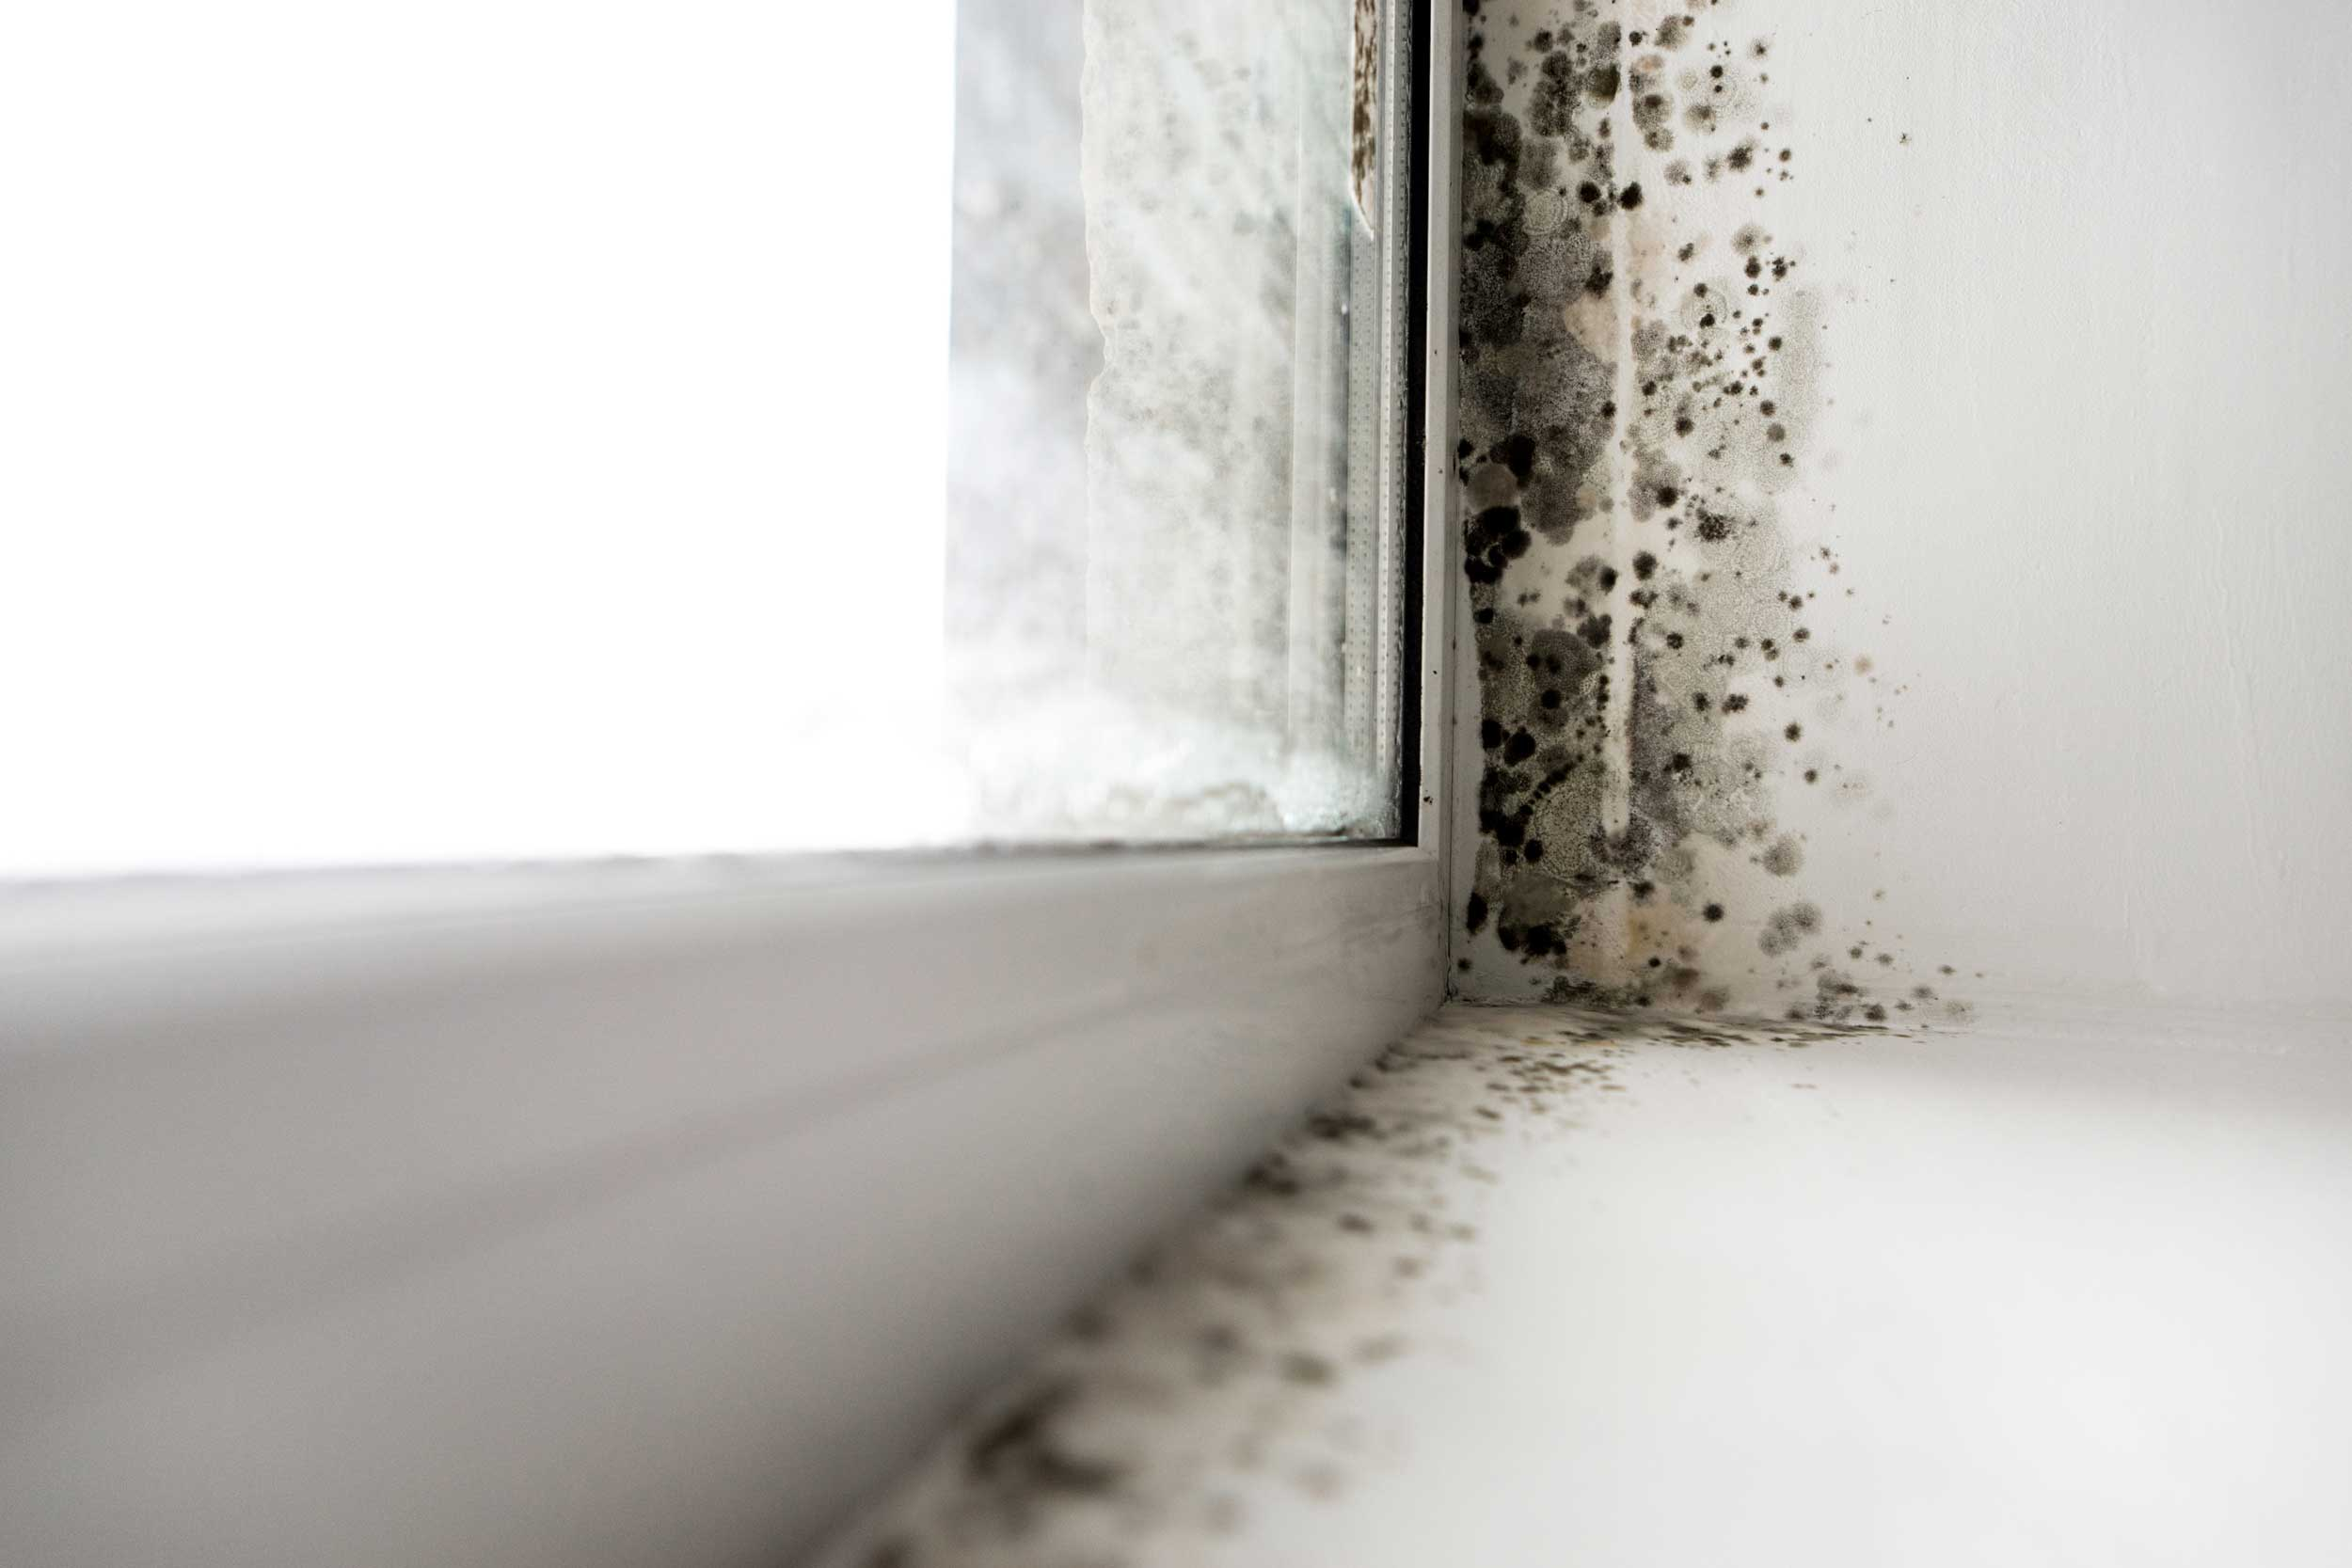Stachybotrys: (1458, 47, 1774, 1022), (1438, 964, 1955, 1069)
